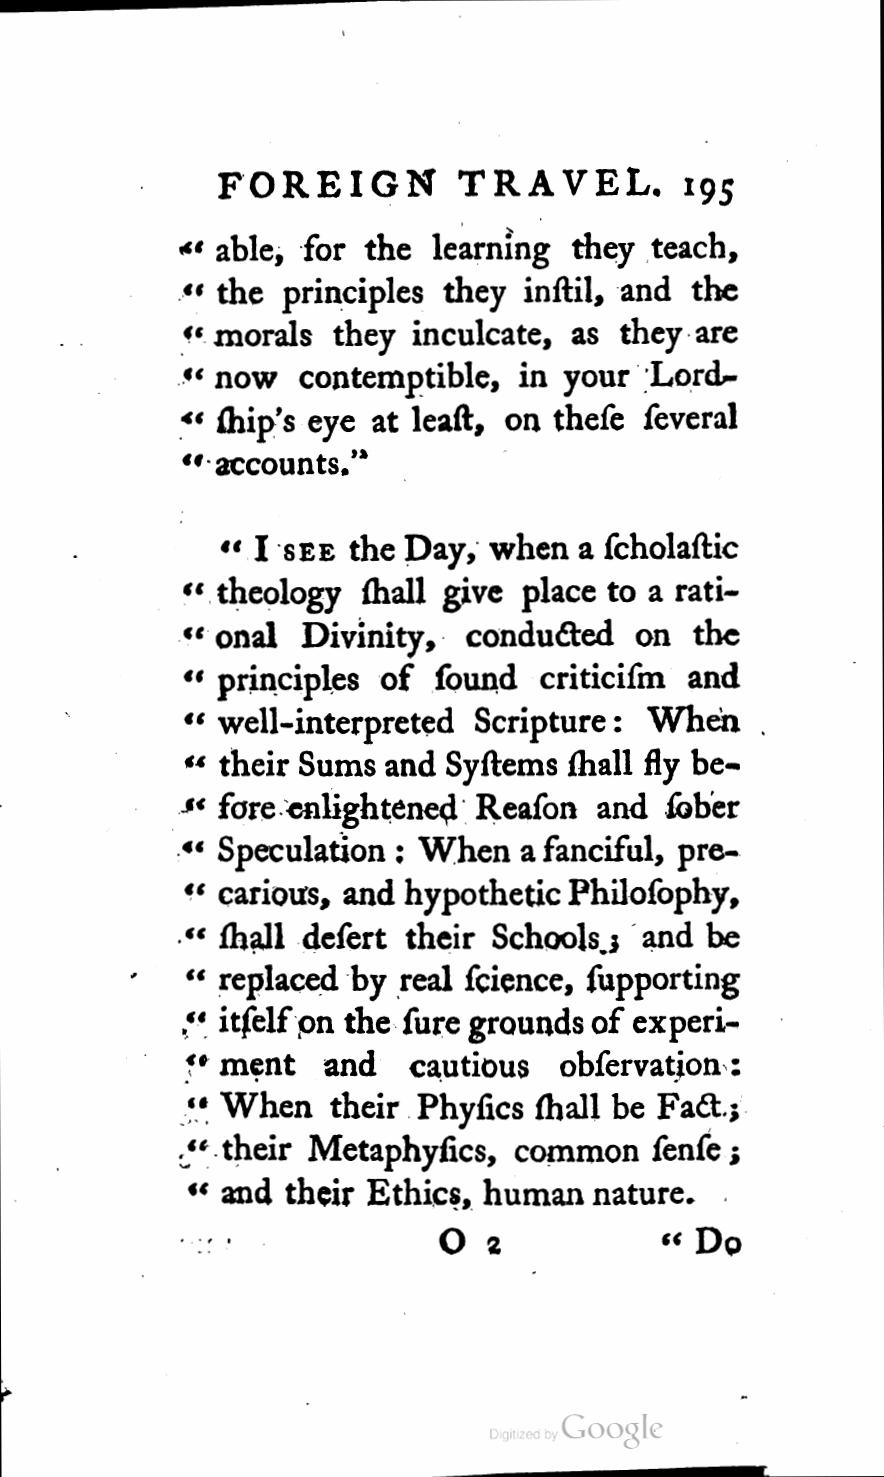bottom_p: (176, 230, 746, 476)
catchword: (656, 1216, 750, 1262)
full_p: (172, 528, 744, 1210)
header: (216, 164, 664, 208)
page_num: (682, 168, 740, 216)
signature: (428, 1220, 513, 1262)
